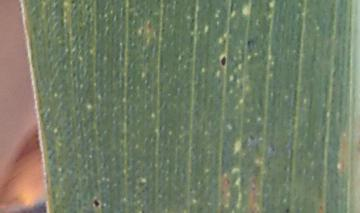tarspot: (215, 50, 233, 72), (89, 192, 105, 213), (280, 204, 297, 213)
